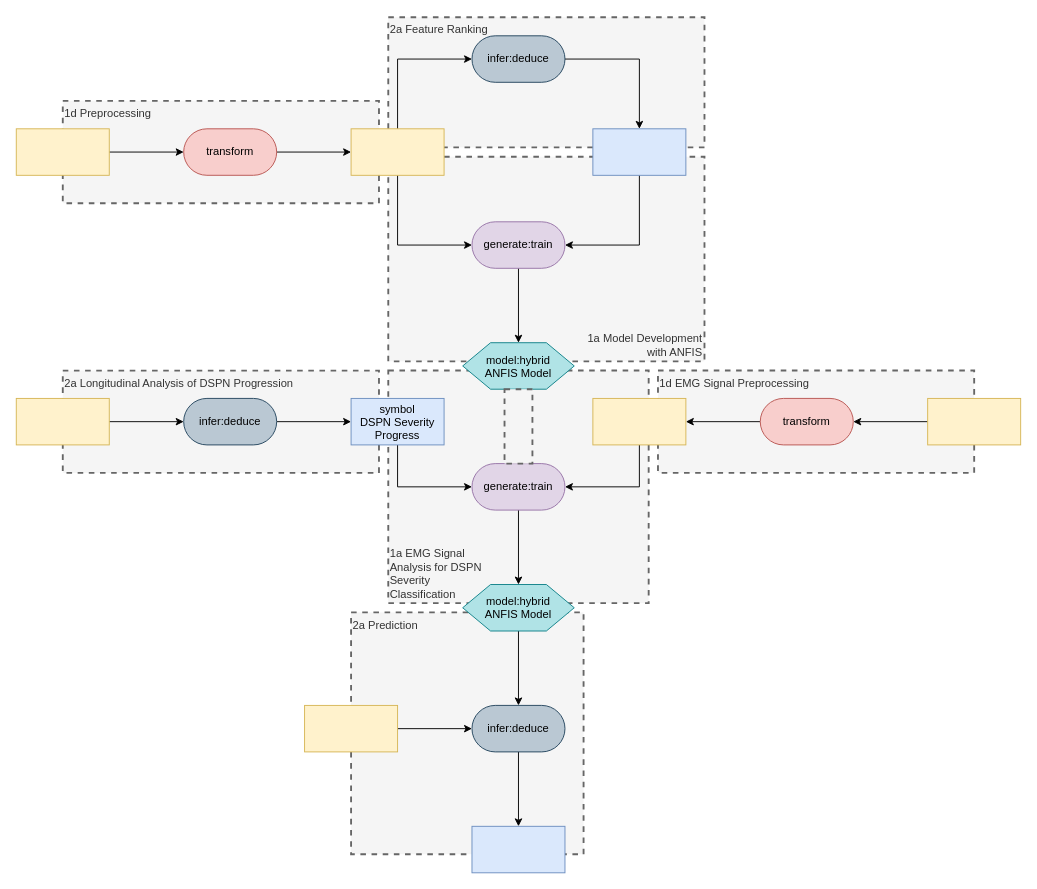
The diagram is 1037 pixels wide and 889 high, and some of its shapes have lost their labels. Each missing label, with the centre of its shape:
data Cleaned Data: the point at 397,151
data EMG Signals: the point at 974,421
data Other EDIC Data: the point at 62,421
data Patient Data: the point at 351,728
data Raw EDIC Data: the point at 62,151
data Selected Datas: the point at 639,421
error | | v: the point at 518,426
symbol Ranked MNSI Parameters: the point at 639,151
symbol Severity and Treatment Plan: the point at 518,849
